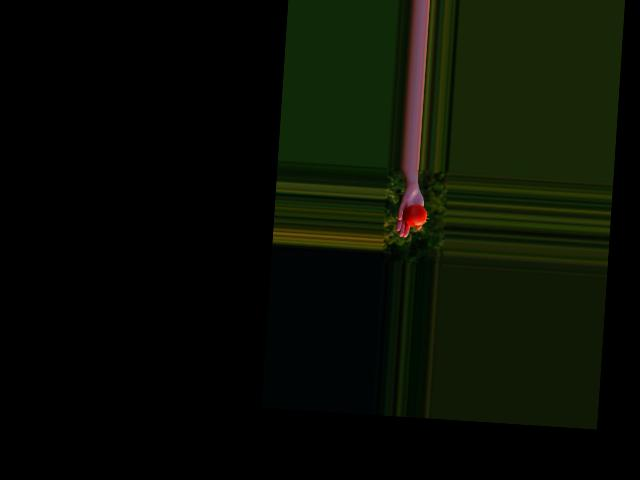tomato: (402, 204, 427, 227)
